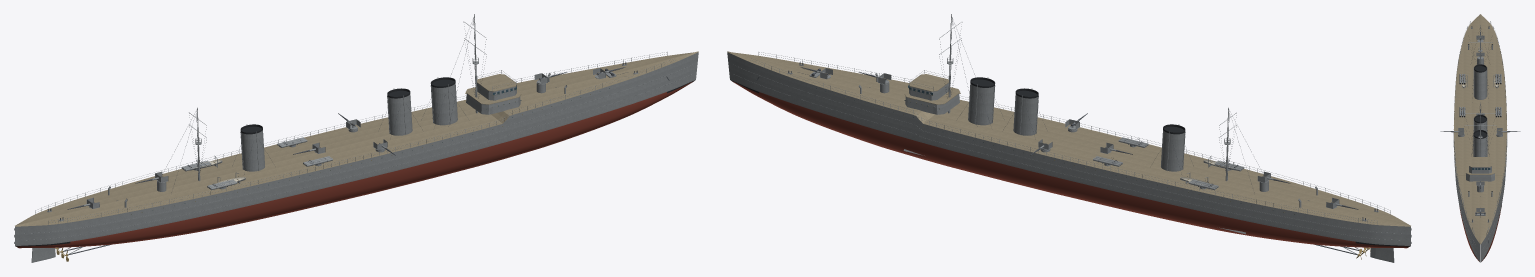
Rendered from emerald.glb.
3 renders of one model, left to right at view 1: azimuth 30°, elevation 25°; view 2: azimuth 150°, elevation 25°; view 3: azimuth 270°, elevation 25°, orthographic. The views are drawn at different scales.
Parts seen in each view (by area): view 1: Emerald (E) class; view 2: Emerald (E) class; view 3: Emerald (E) class.
Part boxes in pixels (bbox=[...]): Emerald (E) class: bbox=[14, 14, 698, 262]; Emerald (E) class: bbox=[727, 14, 1411, 262]; Emerald (E) class: bbox=[1440, 14, 1520, 262].
Size of the model in its own units: 174 by 34.6 by 25.09.
Materials: 8 (2 with a texture image).
